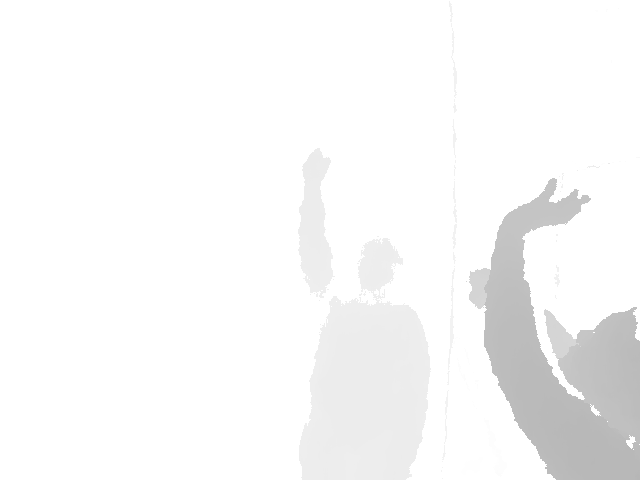hand: (496, 176, 592, 235), (301, 148, 331, 186)
head: (559, 306, 640, 447), (356, 236, 403, 304)
person: (466, 176, 640, 480), (294, 148, 432, 480)
